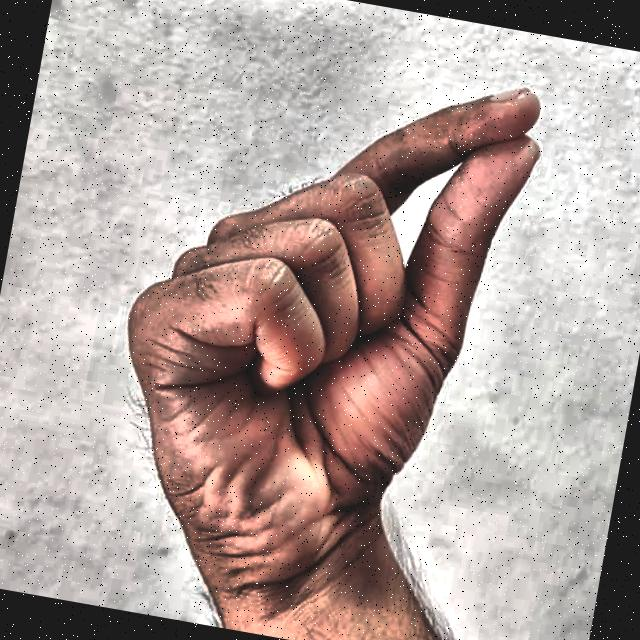Anusshar: (46, 0, 577, 640)
